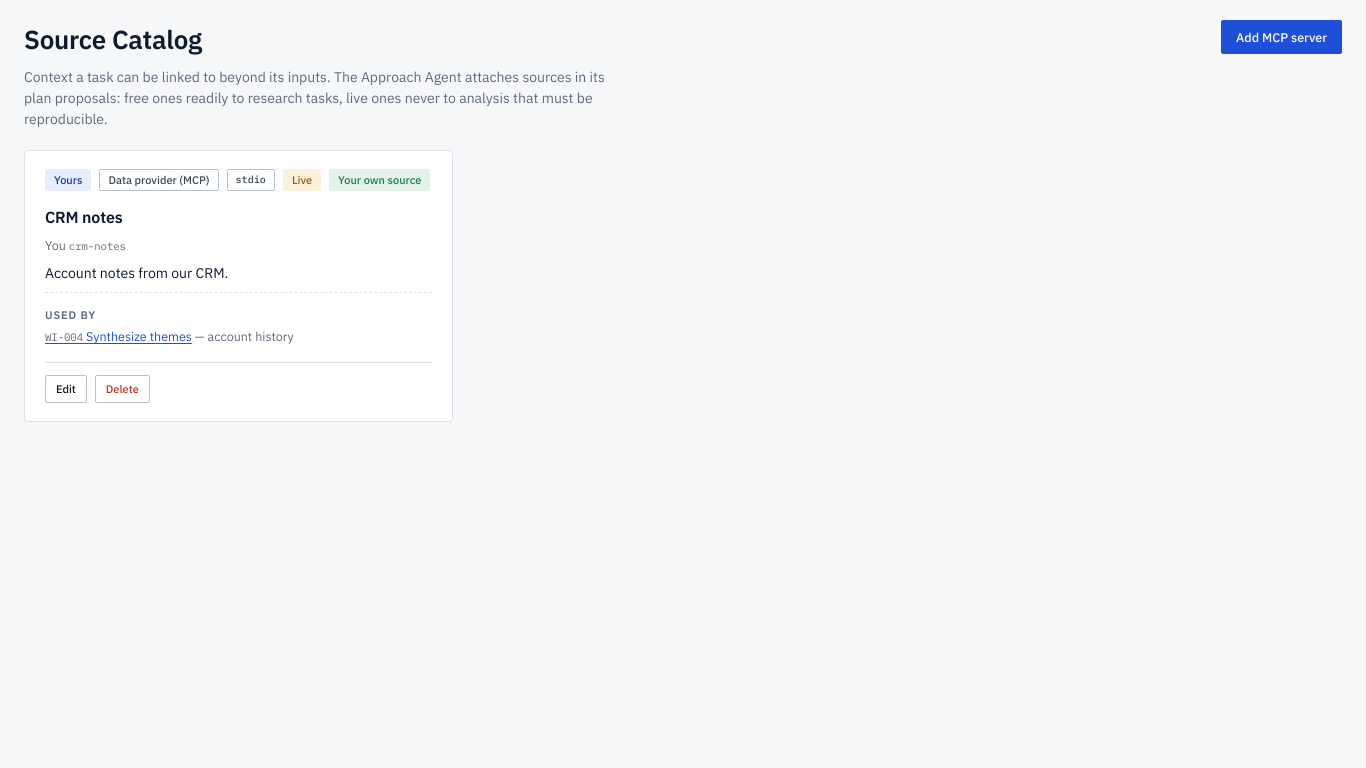
Test: SourcesPage: your own MCP servers › edit loads the full listing and saves through updateSource
Click the button with test id "source-edit-crm-notes" at (66, 389), box [45,375,87,403]
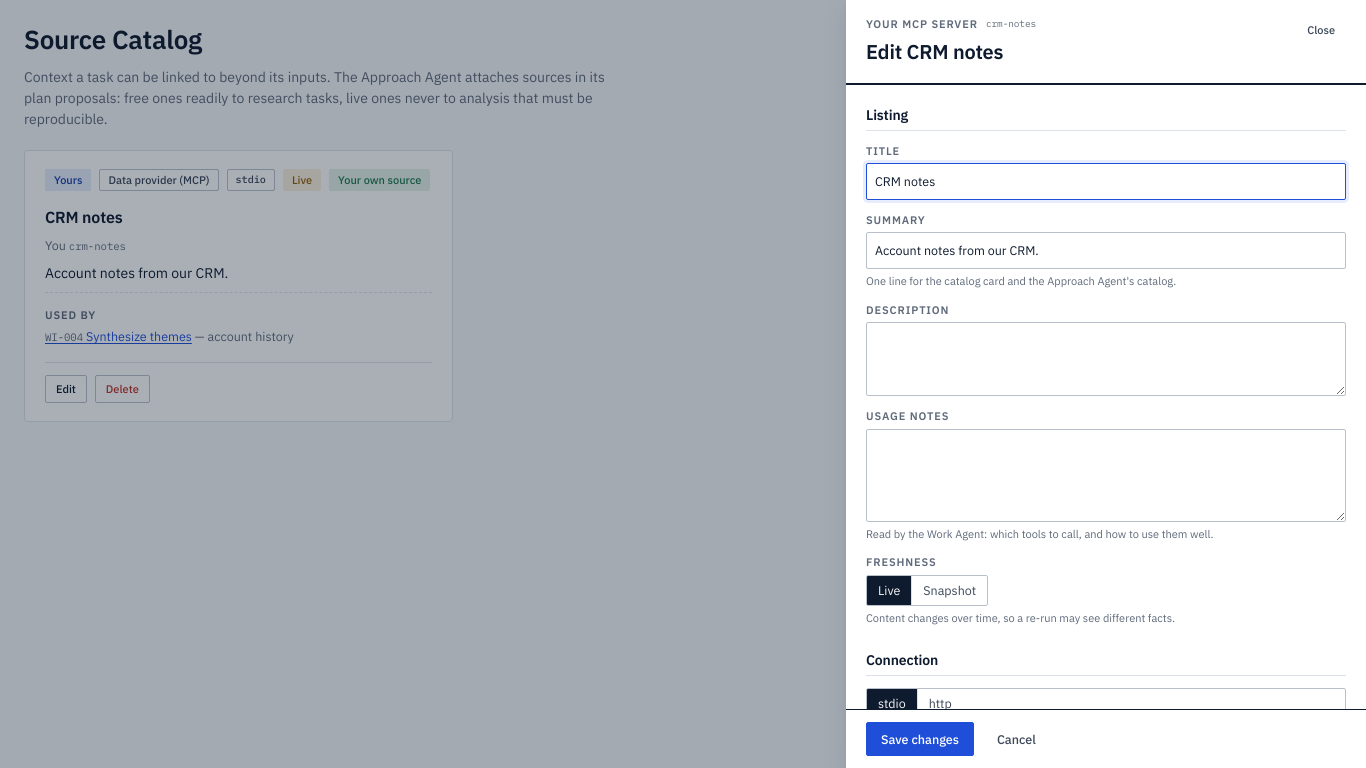
Replace the text in the field with test id "source-title" with "CRM notes (EU)" at (1106, 181), box [866,163,1346,200]
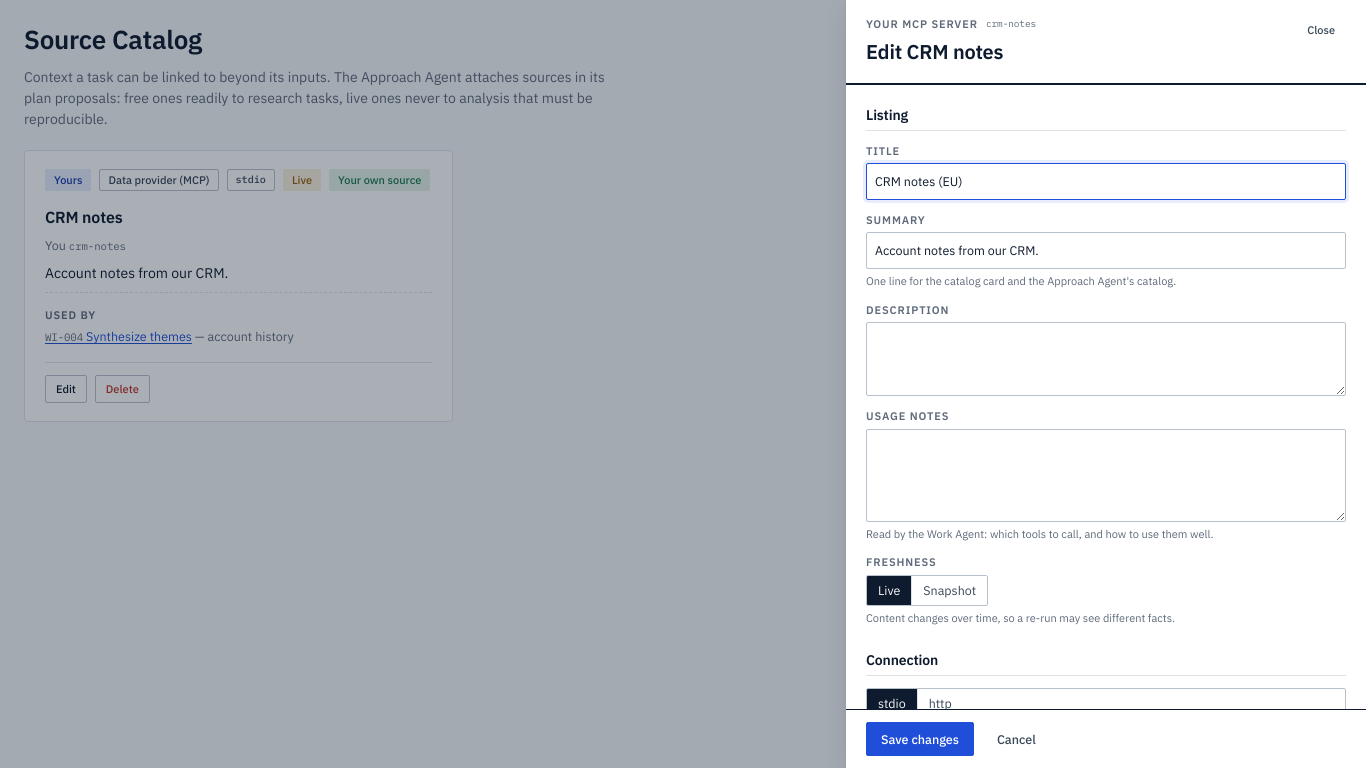
Click the button with test id "source-save" at (920, 739), box [866,722,974,756]
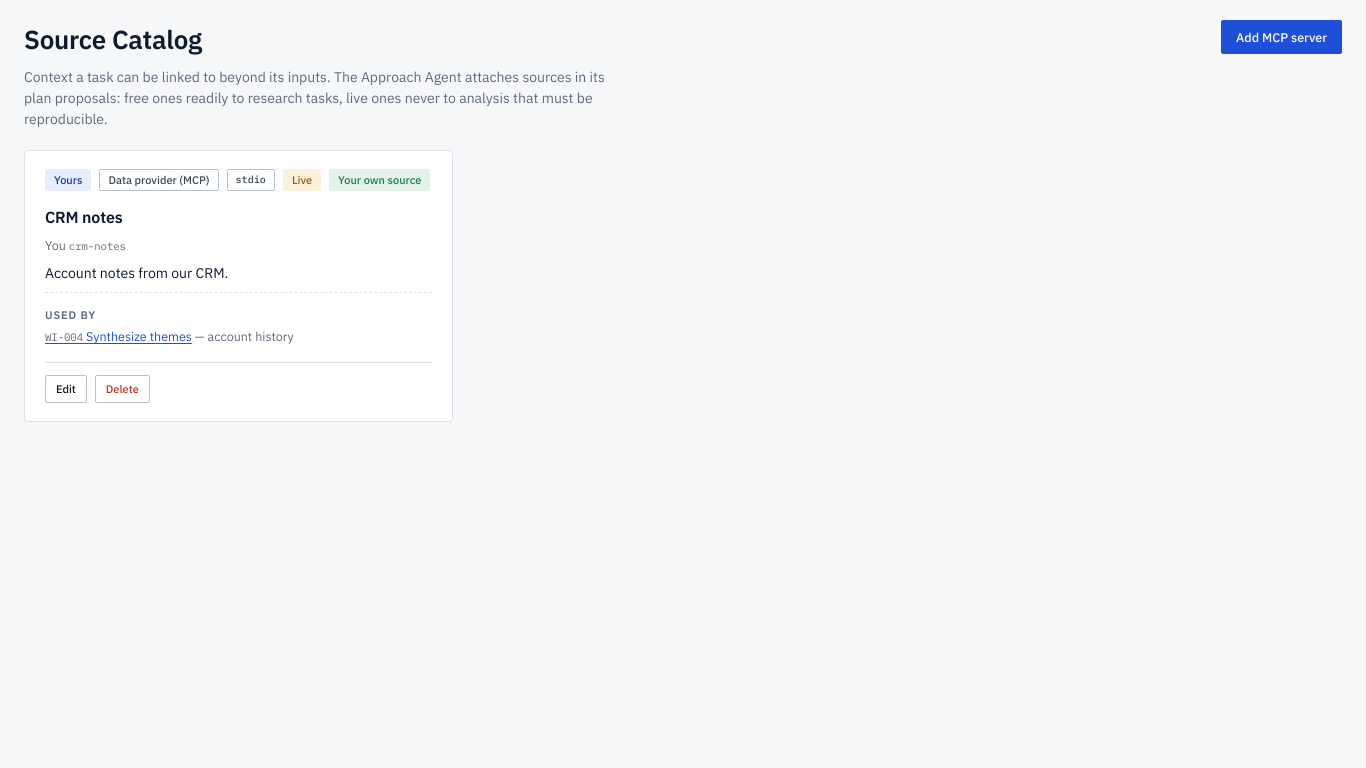
Expected: the text "crm-notes" is shown, [69,239,126,253]
Expected: the dialog with test id "source-editor" is gone
